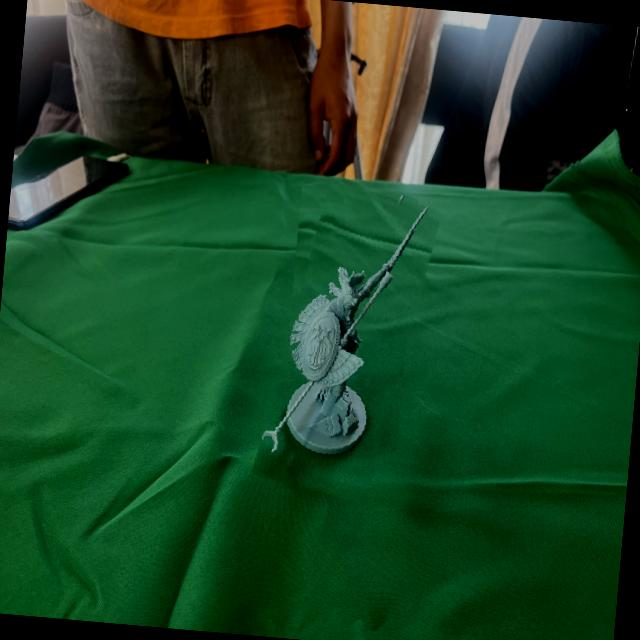isis: (262, 182, 431, 504)
